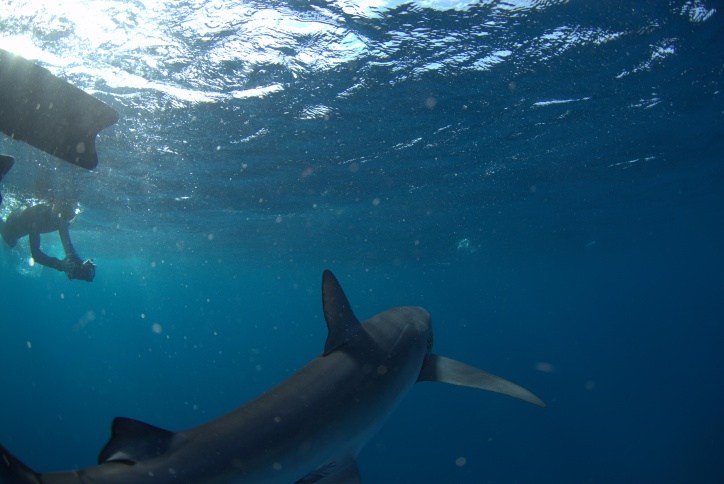Azul: (1, 259, 558, 483)
